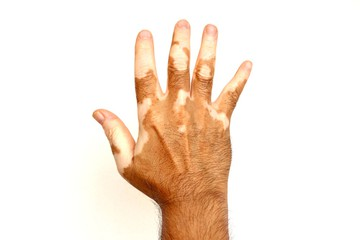vitiligo: (119, 32, 236, 167)
